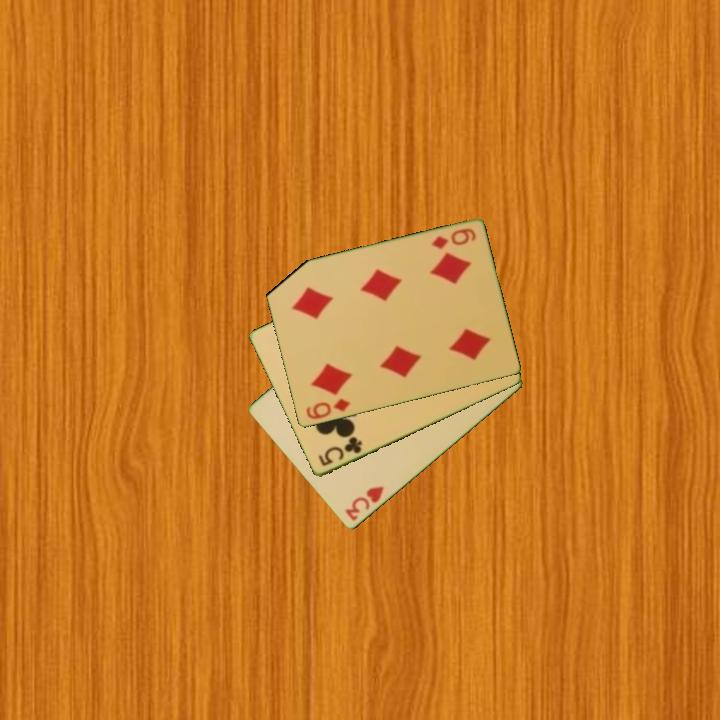3h: (342, 483, 387, 524)
5c: (315, 433, 365, 469)
6d: (302, 395, 353, 423), (427, 225, 479, 252)
